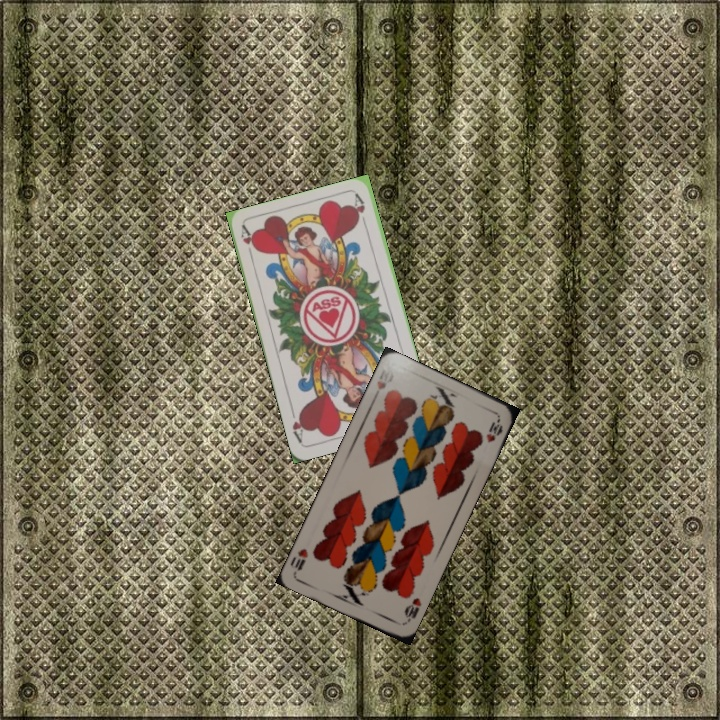H10: (400, 593, 424, 626), (369, 376, 389, 402)
HA: (237, 223, 259, 263)
